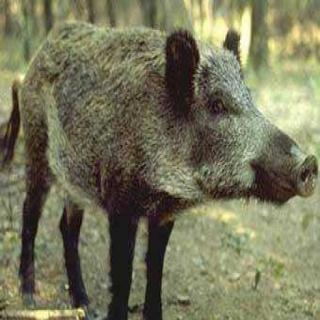Pig: (9, 23, 320, 305)
